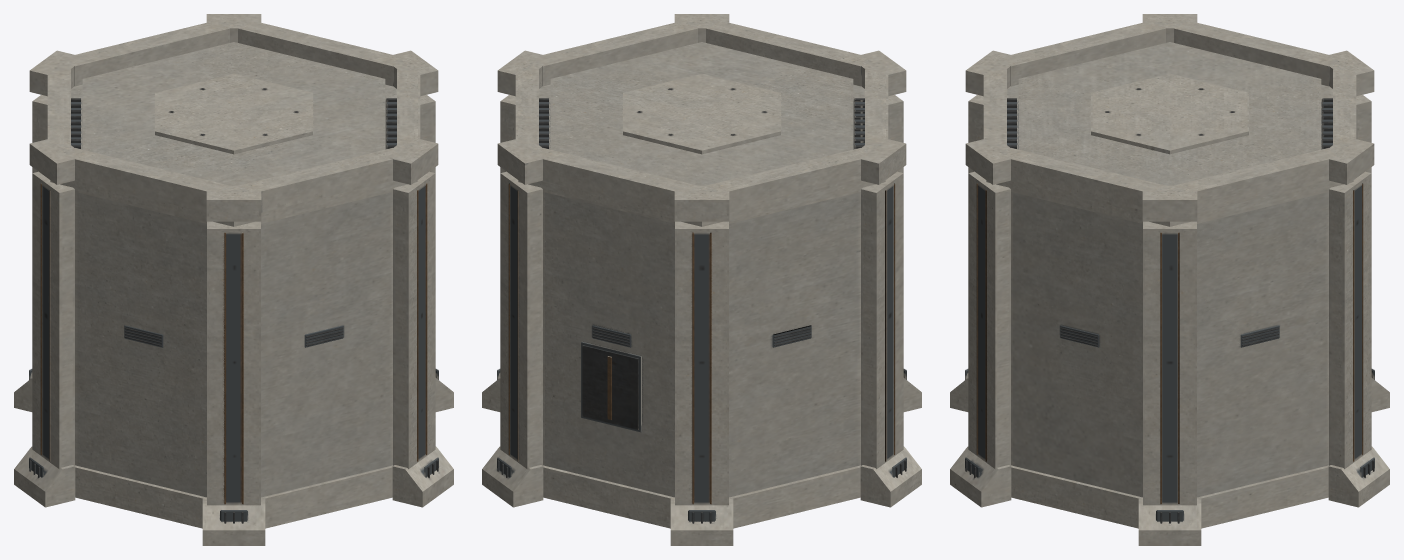
Rendered from terminal.glb.
The picture shows the model from 3 angles, left to right: view 1: azimuth 30°, elevation 25°; view 2: azimuth 150°, elevation 25°; view 3: azimuth 270°, elevation 25°; orthographic projection.
Parts seen in each view (by area): view 1: terminal-geometry0, terminal-geometry1; view 2: terminal-geometry0, terminal-geometry1; view 3: terminal-geometry0, terminal-geometry1.
Part boxes in pixels (<box>): terminal-geometry0: <box>15,15,451,543</box>; terminal-geometry1: <box>14,14,453,545</box>; terminal-geometry0: <box>483,15,920,544</box>; terminal-geometry1: <box>482,14,921,545</box>; terminal-geometry0: <box>951,15,1387,544</box>; terminal-geometry1: <box>950,14,1389,545</box>.
Size of the model in its own units: 68.04 by 54 by 63.43.
10 materials, 10 textured.
